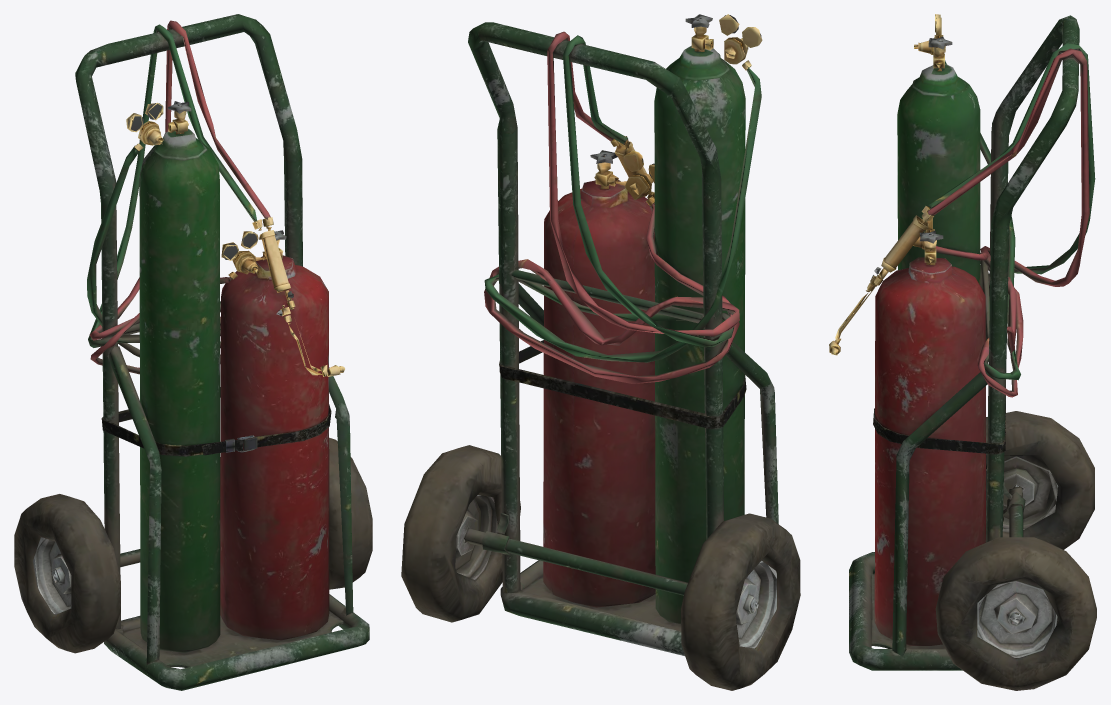
The model's file is welder.glb.
3 views of the same model, side by side, from view 1: azimuth 30°, elevation 25°; view 2: azimuth 150°, elevation 25°; view 3: azimuth 270°, elevation 25° (orthographic). The views are drawn at different scales.
Visible parts, largest first — view 1: portable_welding_cart; view 2: portable_welding_cart; view 3: portable_welding_cart.
Boxes of the visible parts, x1,y1,x2,y2 form: portable_welding_cart: [14, 14, 372, 690]; portable_welding_cart: [401, 14, 800, 690]; portable_welding_cart: [829, 14, 1096, 690].
Bounding box in the file's own units: 0.8365 × 1.56 × 0.6545.
Materials: 2 (2 with a texture image).
